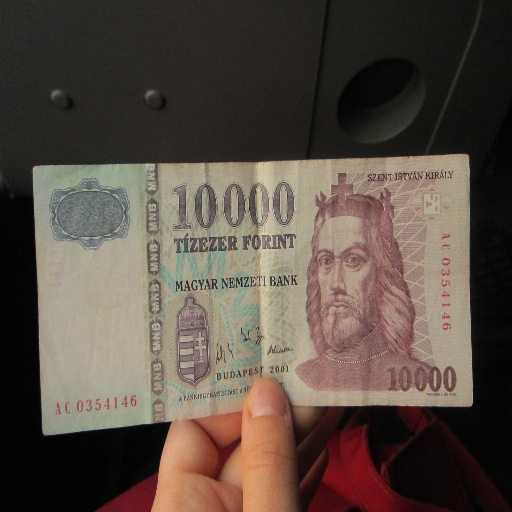hand: (187, 385, 308, 504)
